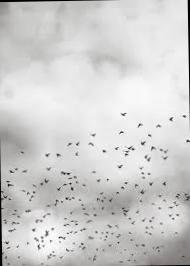bird: (116, 108, 130, 117), (115, 124, 124, 136), (86, 129, 99, 137)
